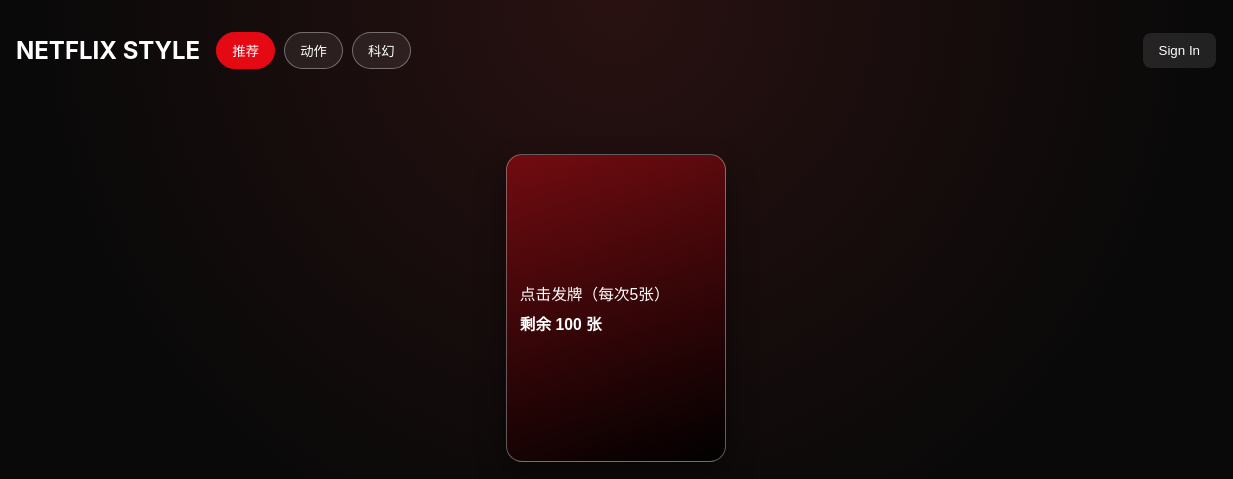
Test: App › resets dealt cards when banner category is clicked
Expected: the text "剩余 100 张" is shown, 520,312 -> 602,335
Click the button "点击发牌（每次5张） 剩余 100 张" at x=616, y=308, box 506,154 -> 726,462
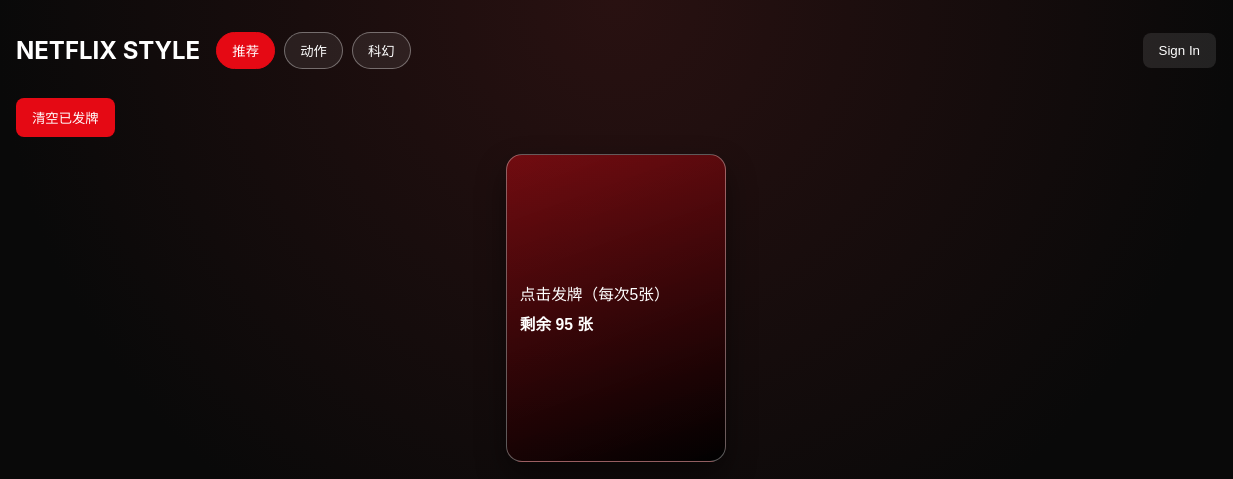
Expected: the text "剩余 95 张" is shown, 520,312 -> 593,335
Click the button "动作" at x=314, y=50, box 284,32 -> 343,69
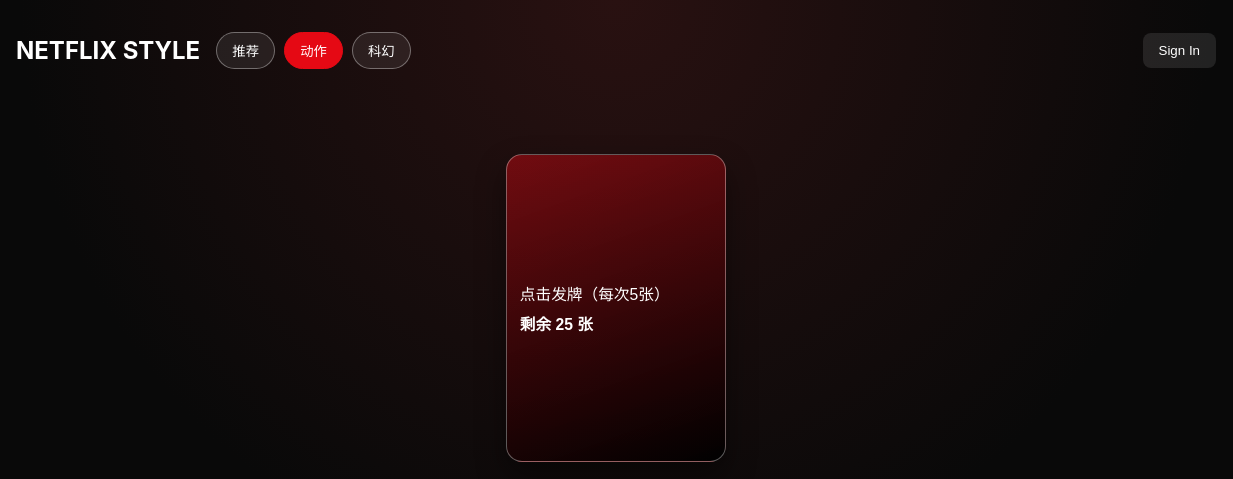
Expected: the text "剩余 25 张" is shown, 520,312 -> 593,335
